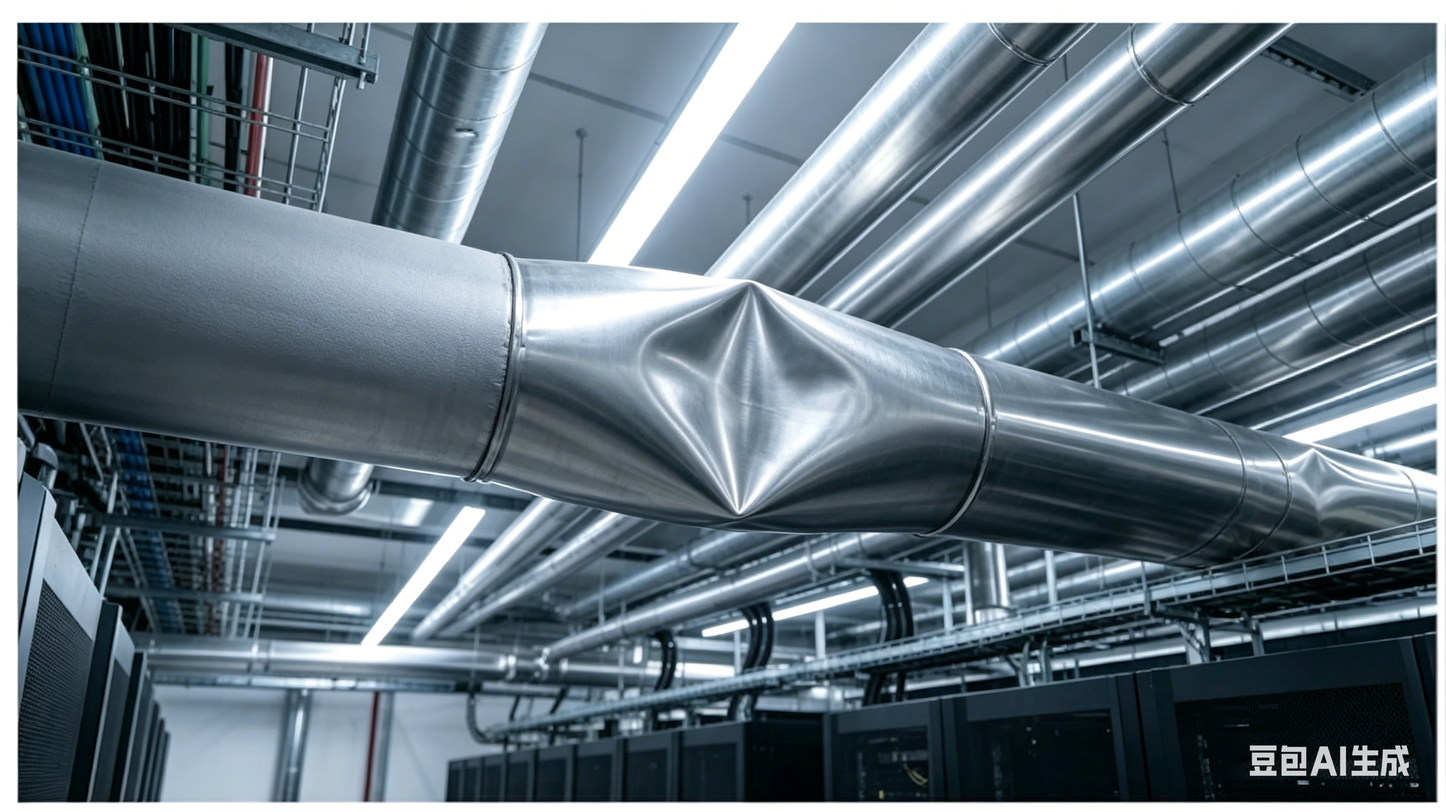Leakage: (622, 272, 914, 536), (1263, 448, 1383, 517)
